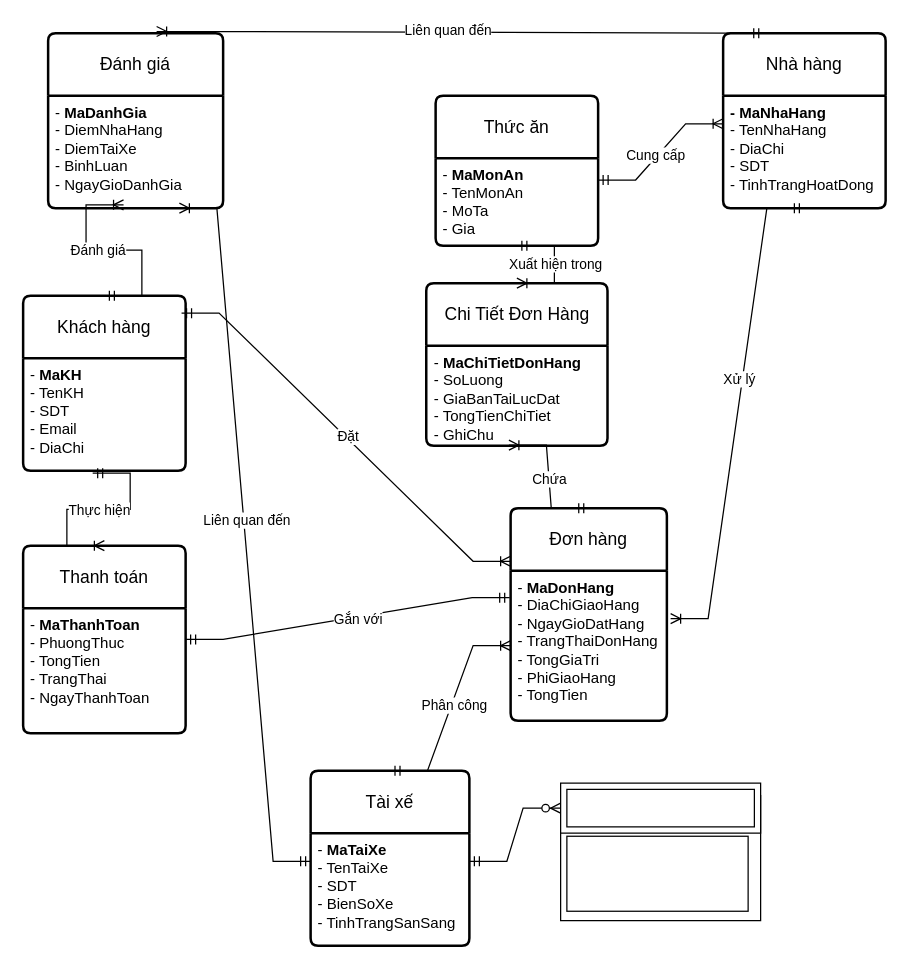
Some shapes in this 908 by 969 pixel diagram are drawn without their labels. Here are the shapes that lost their labels. From the top down, the centre of each, then its label:
At pixel 660 807: "Biển số xe cũ".
At pixel 657 873: "- BienSoCu - NgayBatDau -NgayKetThuc".
